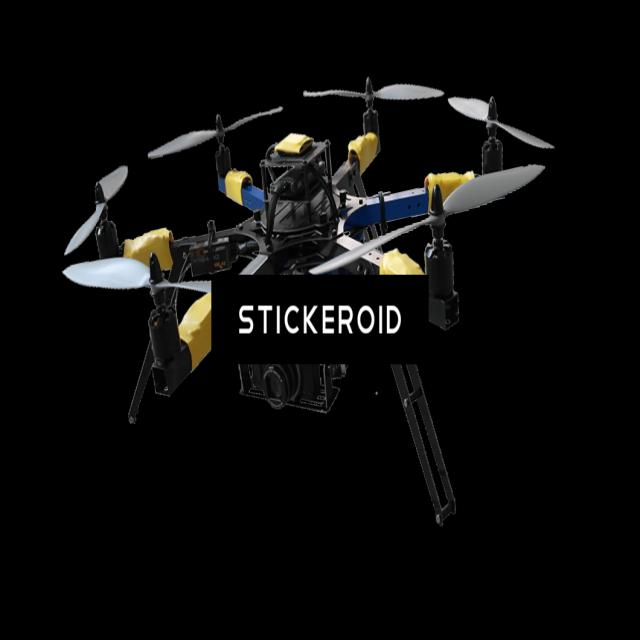drone: (54, 67, 581, 379)
